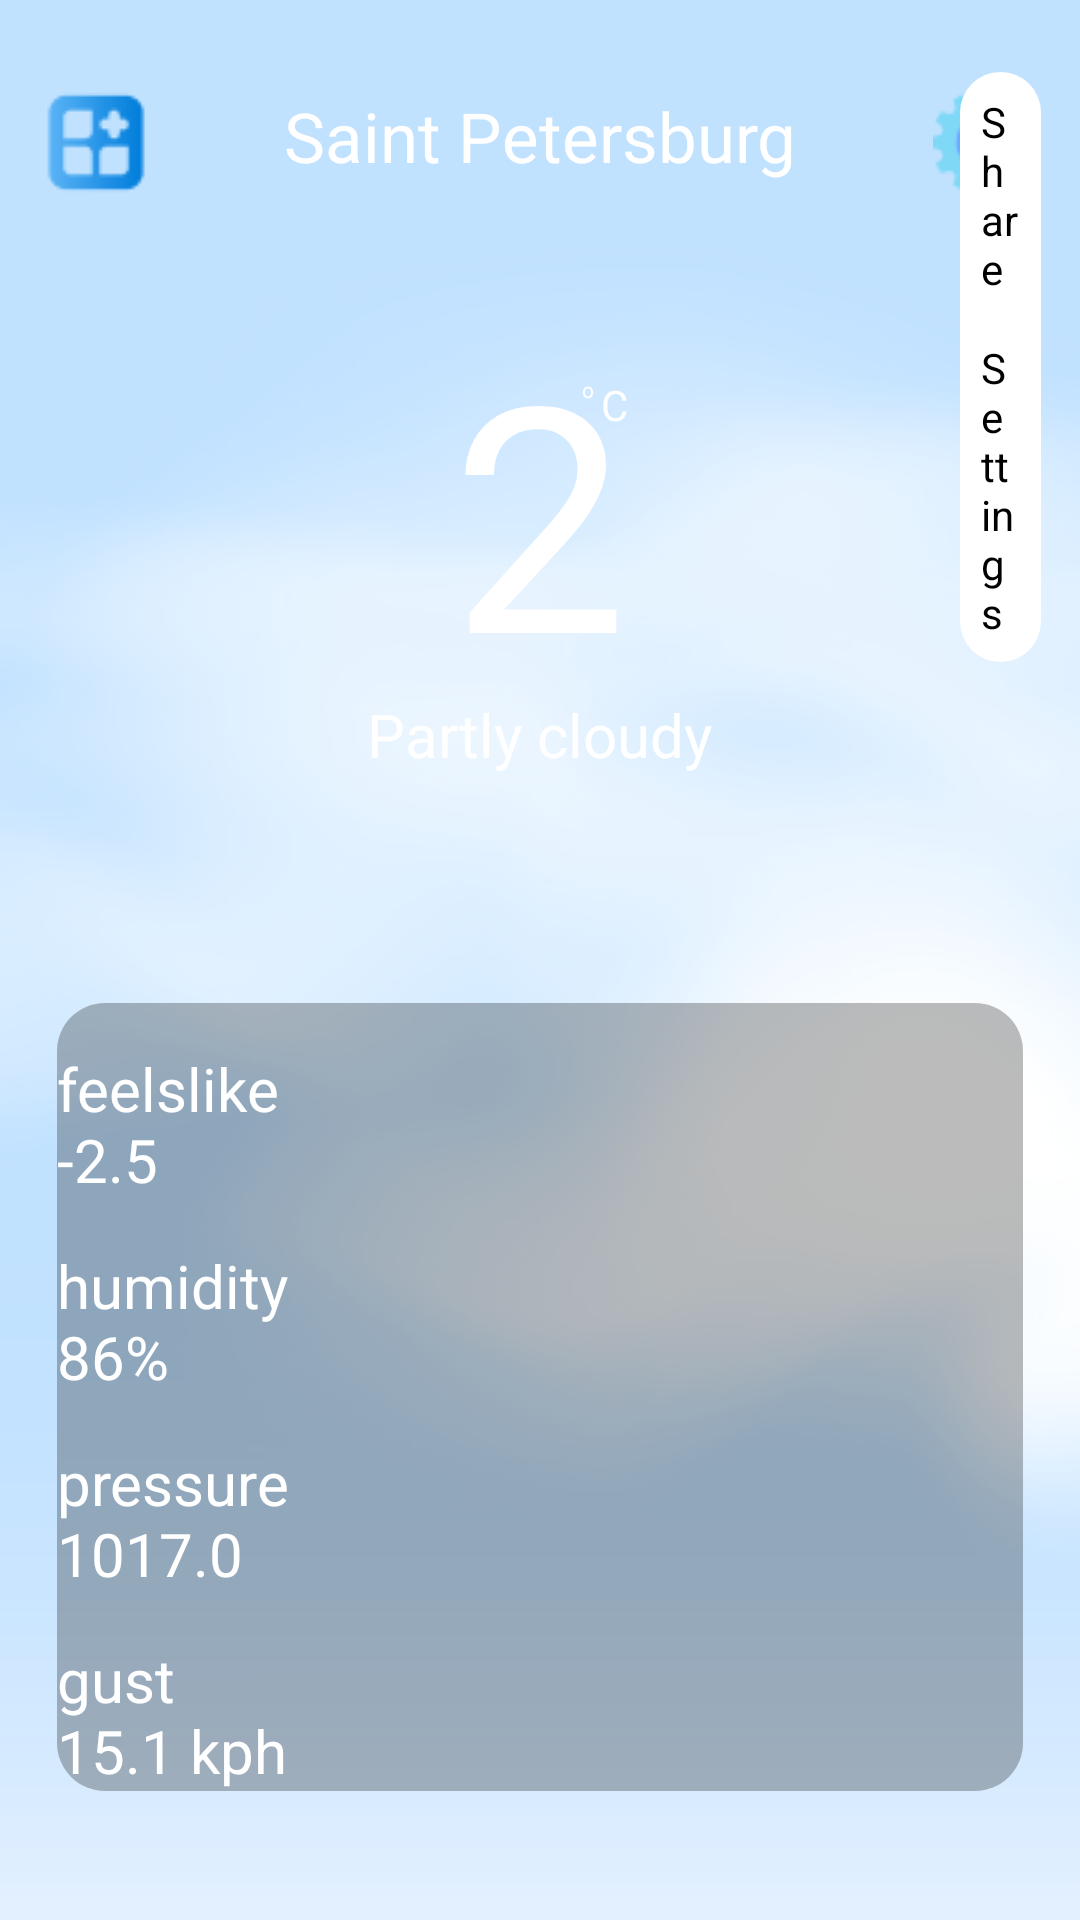

Icon click points for this 1080 × 1920 phone screenshot, format (x,y):
add: (96,142)
